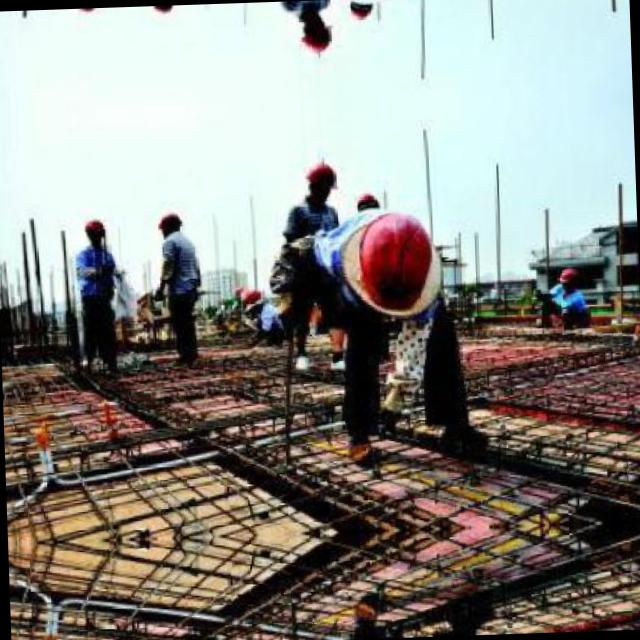helmet: (336, 207, 442, 320), (303, 156, 339, 208), (298, 5, 334, 57), (352, 185, 388, 211), (345, 0, 380, 24), (82, 215, 108, 247), (154, 210, 184, 237), (558, 265, 582, 290), (146, 5, 177, 14), (75, 8, 101, 15)
